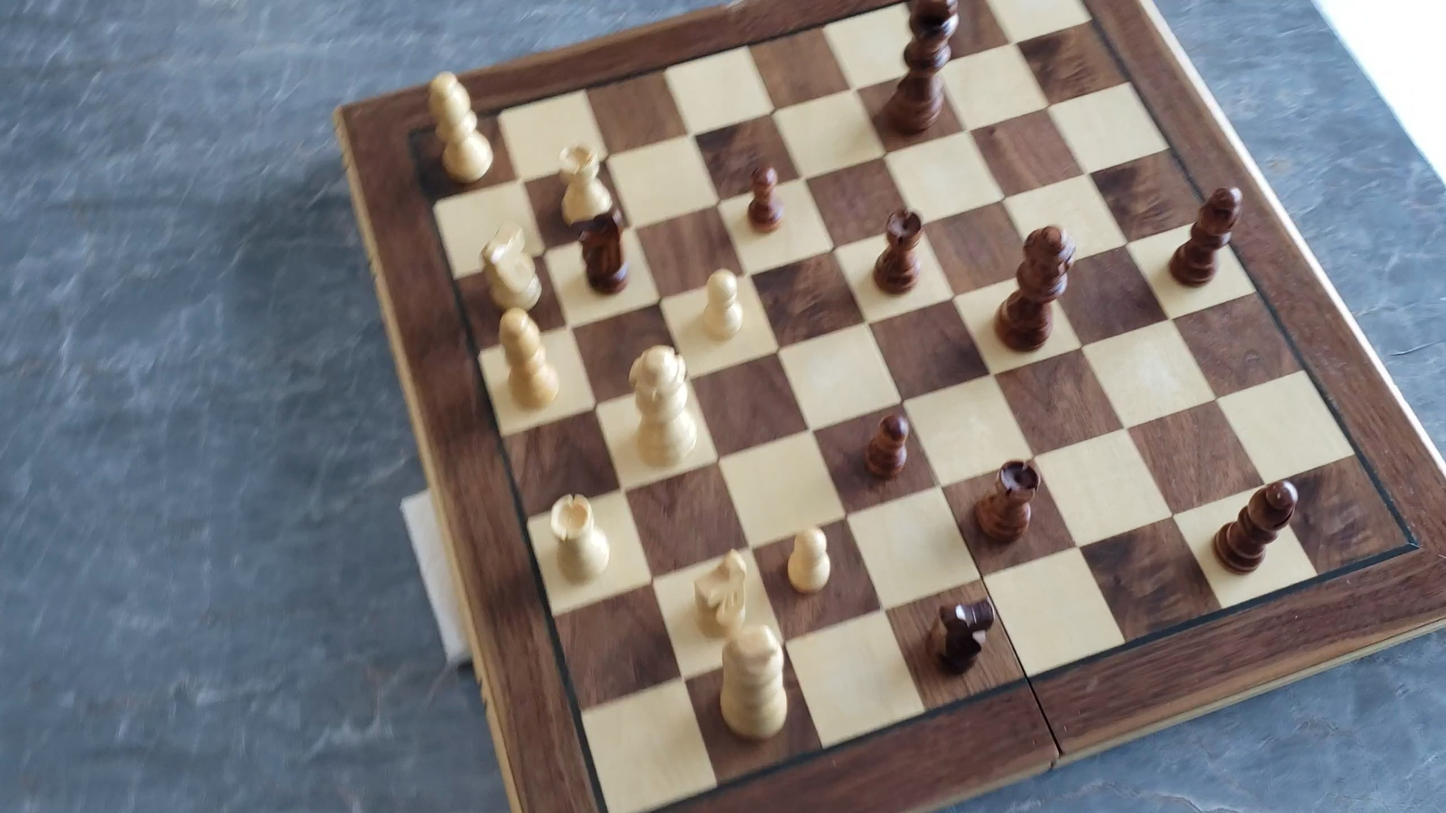black-bishop: (1198, 469, 1312, 595), (1168, 182, 1243, 288)
black-king: (875, 0, 961, 146)
black-knight: (927, 595, 999, 678), (575, 207, 635, 296)
black-pawn: (860, 409, 914, 484), (743, 159, 785, 236)
black-queen: (995, 223, 1075, 351)
black-rook: (971, 457, 1043, 547), (870, 206, 927, 296)
white-bishop: (412, 66, 508, 187), (493, 305, 564, 415)
white-king: (711, 620, 794, 746)
white-knight: (478, 221, 546, 316), (681, 548, 751, 636)
white-pawn: (695, 263, 751, 348), (782, 521, 837, 597)
white-queen: (621, 340, 713, 475)
white-rook: (545, 489, 616, 588), (554, 139, 617, 231)
